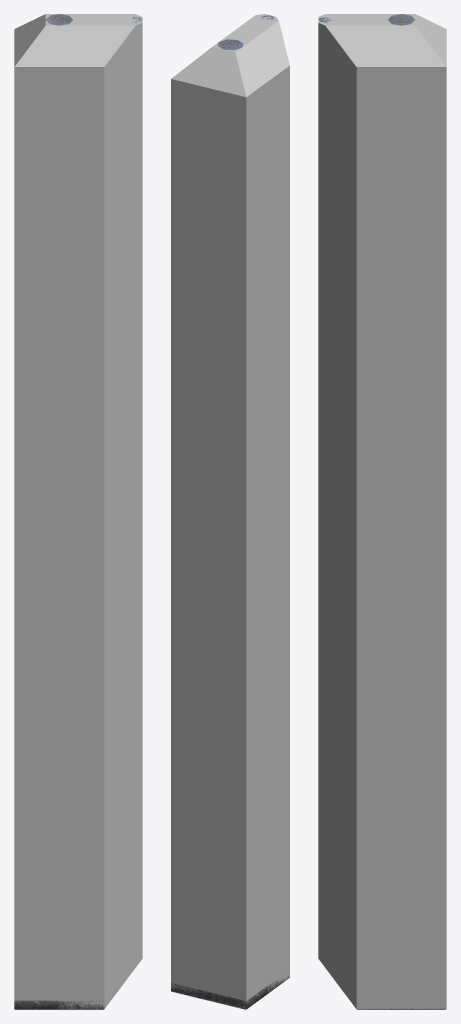
Rendered from SM_scaffold_a.fbx.
The picture shows the model from 3 angles, left to right: view 1: azimuth 90°, elevation 25°; view 2: azimuth 150°, elevation 25°; view 3: azimuth 270°, elevation 25°; orthographic projection. The views are drawn at different scales.
Visible parts, largest first — view 1: SM_scaffold_a_ConvexHulls, SM_scaffold_a; view 2: SM_scaffold_a_ConvexHulls, SM_scaffold_a; view 3: SM_scaffold_a_ConvexHulls, SM_scaffold_a.
Boxes of the visible parts, x1,y1,x2,y2 form: SM_scaffold_a_ConvexHulls: (14, 14, 142, 1009); SM_scaffold_a: (14, 14, 141, 1009); SM_scaffold_a_ConvexHulls: (171, 14, 289, 1009); SM_scaffold_a: (171, 15, 289, 1009); SM_scaffold_a_ConvexHulls: (318, 14, 446, 1009); SM_scaffold_a: (318, 14, 440, 1009).
Bounding box in the file's own units: 38.98 × 55.48 × 465.
Materials: 2 (1 with a texture image).
